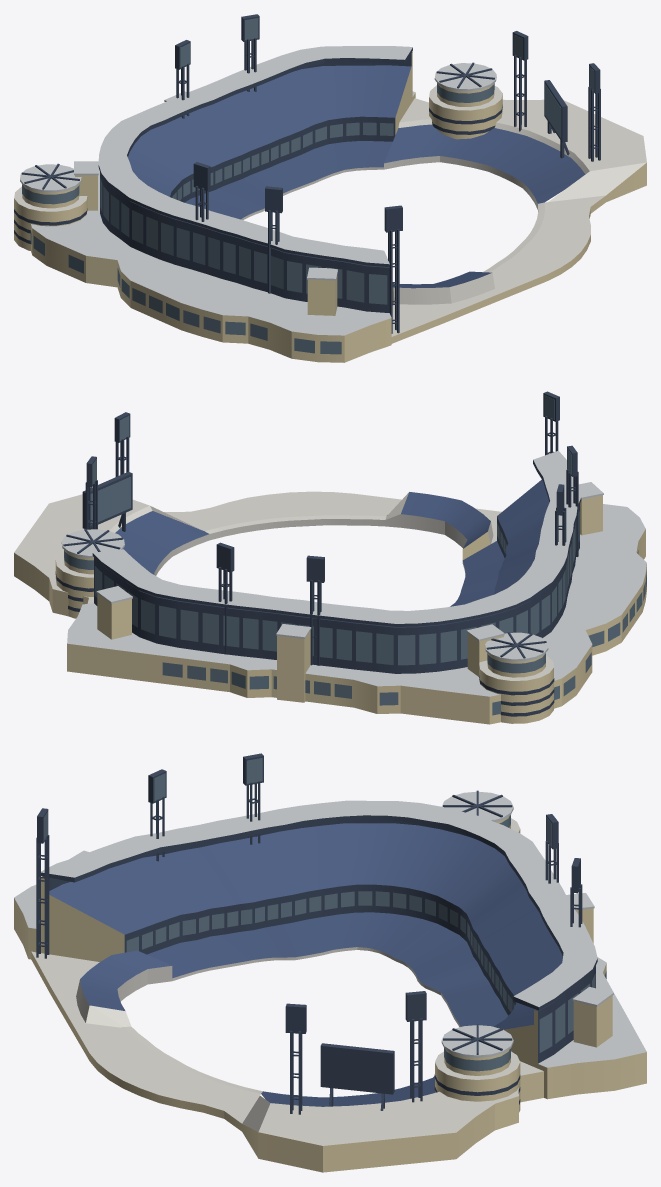
The model's file is pit-pnc-park.glb.
3 views of the same model, one above another, from view 1: azimuth 30°, elevation 25°; view 2: azimuth 150°, elevation 25°; view 3: azimuth 270°, elevation 25° (orthographic). The views are drawn at different scales.
Parts seen in each view (by area): view 1: PNC Park; view 2: PNC Park; view 3: PNC Park.
Part boxes in pixels (x1,y1,x2,y2): PNC Park: (14, 14, 646, 362); PNC Park: (14, 391, 646, 724); PNC Park: (14, 753, 646, 1172).
Bounding box in the file's own units: 278 × 62.5 × 237.
